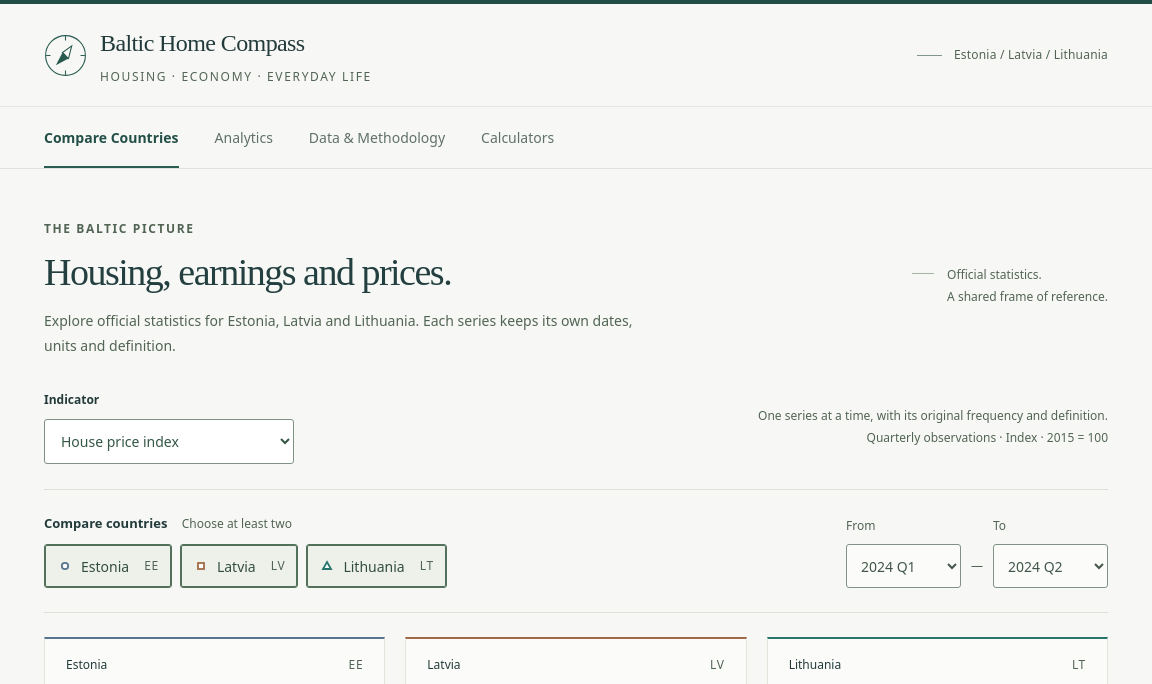
it: data states › reports a failed latest refresh alongside the usable last successful snapshot
The image size is (1152, 684).
Click the link "Data & Methodology".
click(377, 138)  # box [309,128,445,147]
(page scrolled)
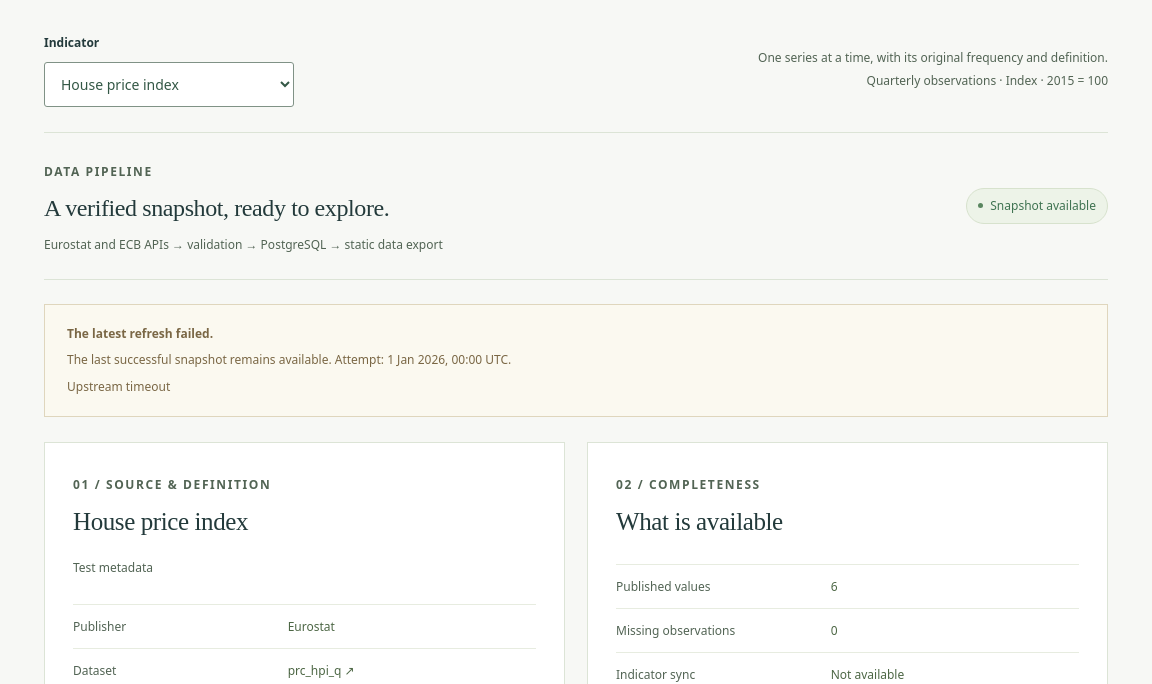
Now the message shows "The latest refresh failed.", box [67,325,213,342]
Now the message shows "Upstream timeout", box [67,378,170,395]
